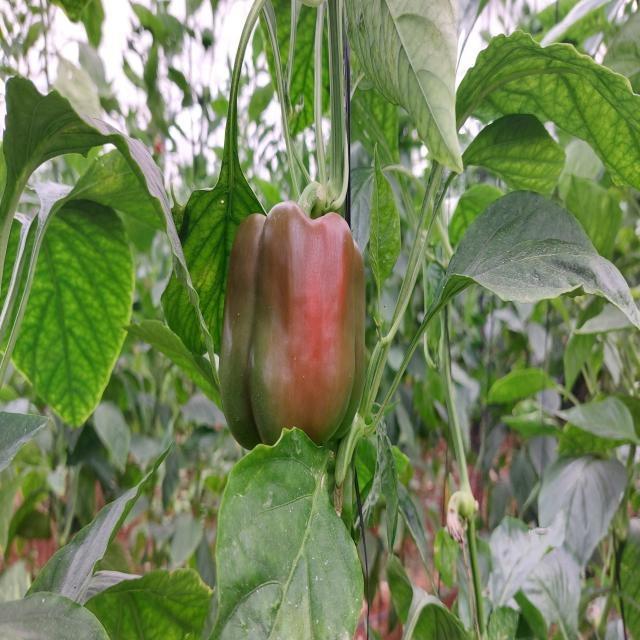BrownishRed--Can-be-Harvested: (220, 205, 367, 452)
